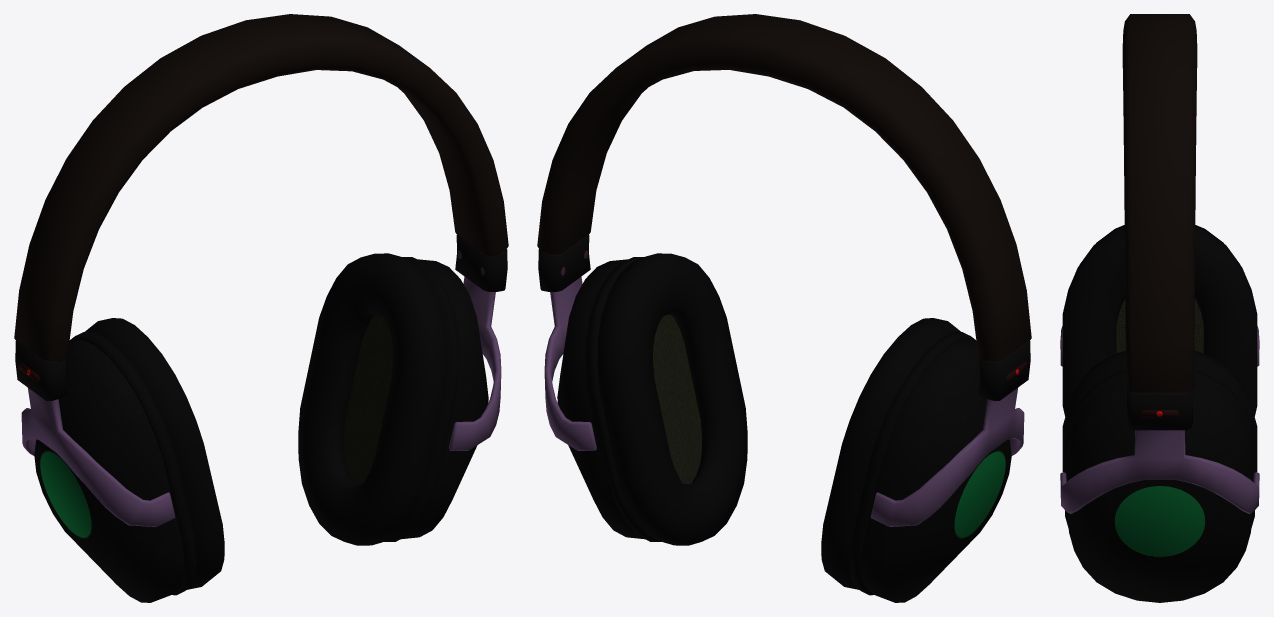
Rendered from Generic_Headphones.glb.
3 renders of one model, left to right at view 1: azimuth 30°, elevation 25°; view 2: azimuth 150°, elevation 25°; view 3: azimuth 270°, elevation 25°, orthographic. The views are drawn at different scales.
Visible parts, largest first — view 1: Headphones_MatHeadphones_geo_MatHeadphones.001_0; view 2: Headphones_MatHeadphones_geo_MatHeadphones.001_0; view 3: Headphones_MatHeadphones_geo_MatHeadphones.001_0.
Part boxes in pixels (box(x1,y1,x2,y2)): Headphones_MatHeadphones_geo_MatHeadphones.001_0: box(14, 14, 508, 602); Headphones_MatHeadphones_geo_MatHeadphones.001_0: box(537, 14, 1031, 602); Headphones_MatHeadphones_geo_MatHeadphones.001_0: box(1060, 14, 1259, 602).
Bounding box in the file's own units: 18.46 × 20.09 × 7.19.
Materials: 1 (1 with a texture image).
